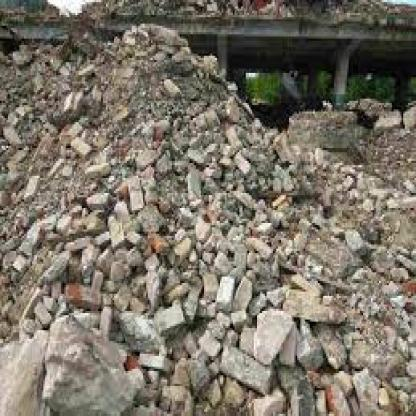brick: (1, 0, 414, 414)
